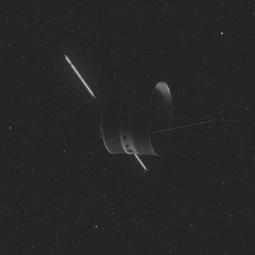double_start: (72, 57, 211, 164)
